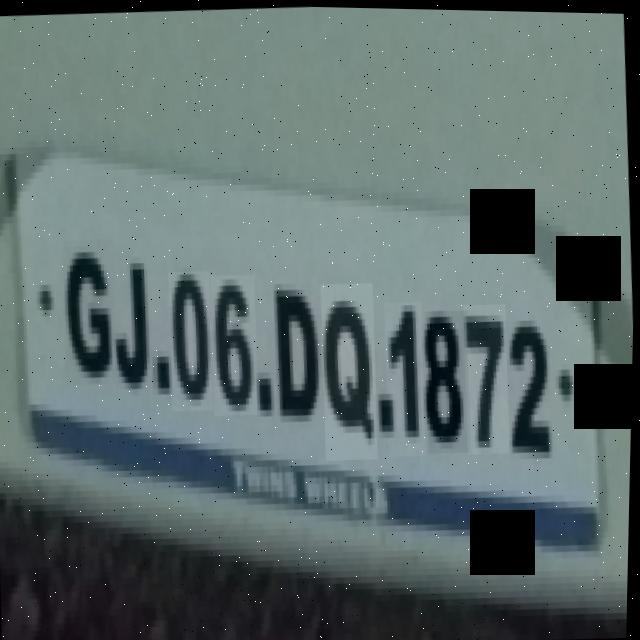0: (167, 270, 217, 411)
1: (383, 299, 431, 456)
6: (209, 273, 263, 416)
7: (462, 301, 515, 453)
8: (424, 308, 475, 452)
D: (269, 278, 328, 428)
G: (61, 237, 121, 386)
J: (109, 259, 161, 396)
Q: (319, 281, 383, 460)
